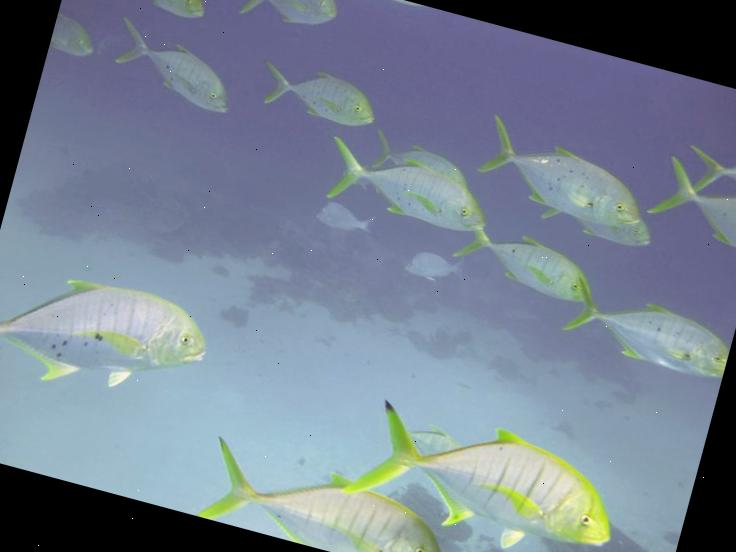fish: (343, 390, 629, 552), (0, 250, 218, 421), (195, 431, 457, 552), (470, 113, 656, 241), (560, 275, 736, 384), (320, 136, 497, 239), (447, 216, 603, 310), (101, 13, 242, 115), (647, 153, 736, 256), (258, 60, 378, 134), (366, 126, 476, 189), (676, 132, 736, 211), (236, 0, 345, 42), (313, 198, 382, 241), (404, 244, 462, 289), (48, 11, 100, 61), (114, 0, 220, 23)
